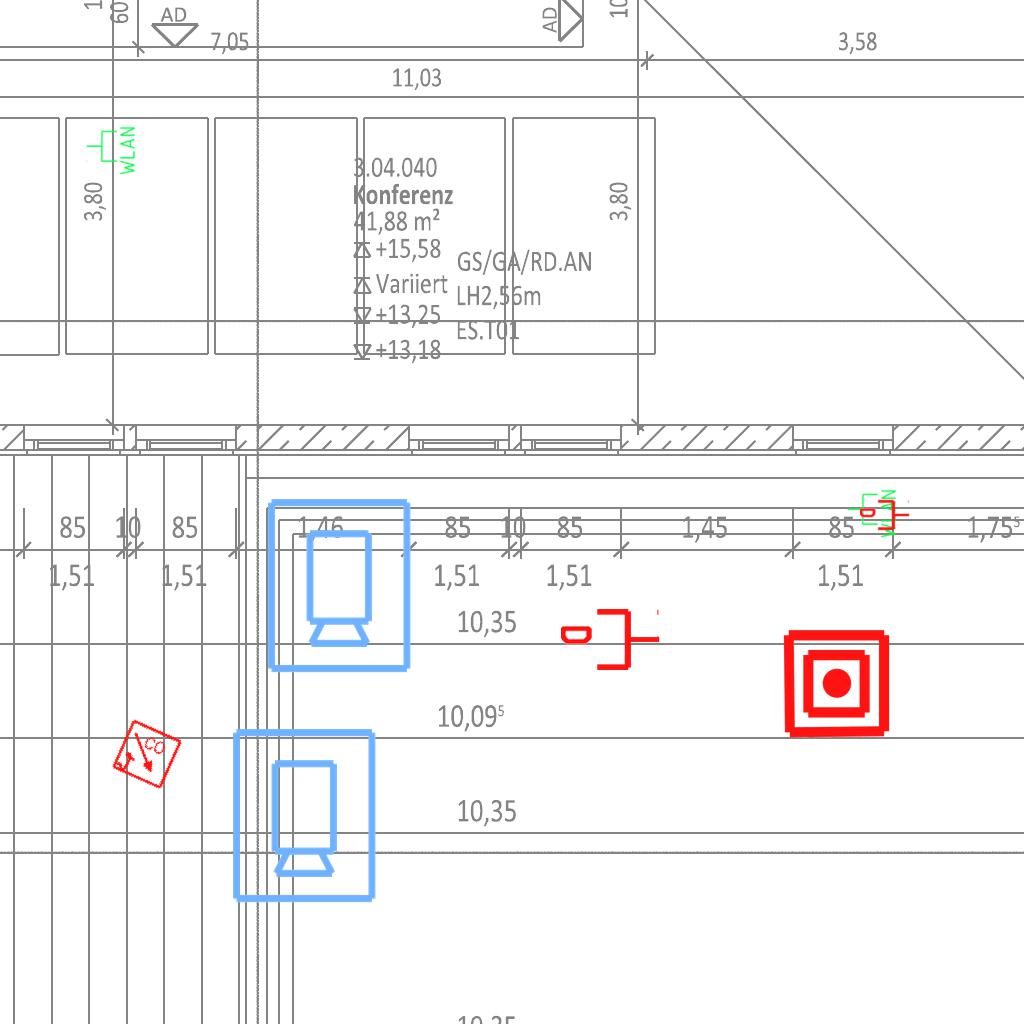Datenanschluss_einfach: (561, 605, 661, 674), (860, 498, 910, 532)
KFO_Kamera_mit_Festobjektiv: (226, 724, 380, 906), (261, 494, 415, 676)
NAM-Nichtautomatischer_Melder: (780, 627, 893, 740)
ROA_Rauchmelder_optisch_mit_Signalgeber_(Sockelsirene): (110, 718, 184, 792)
WLAN: (85, 125, 137, 177), (846, 488, 898, 540)
